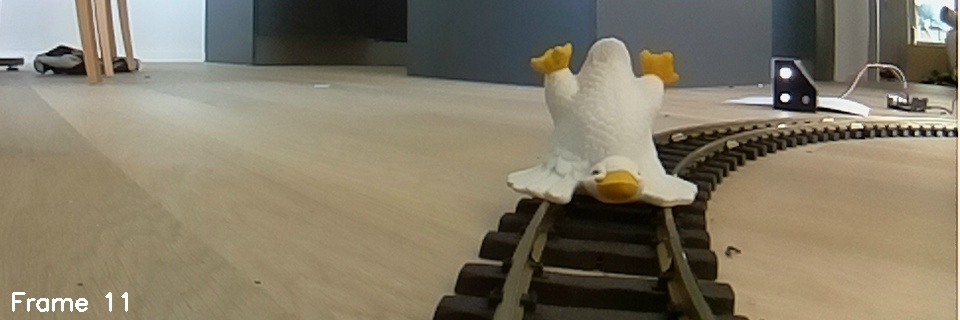Ente: (502, 28, 706, 221)
